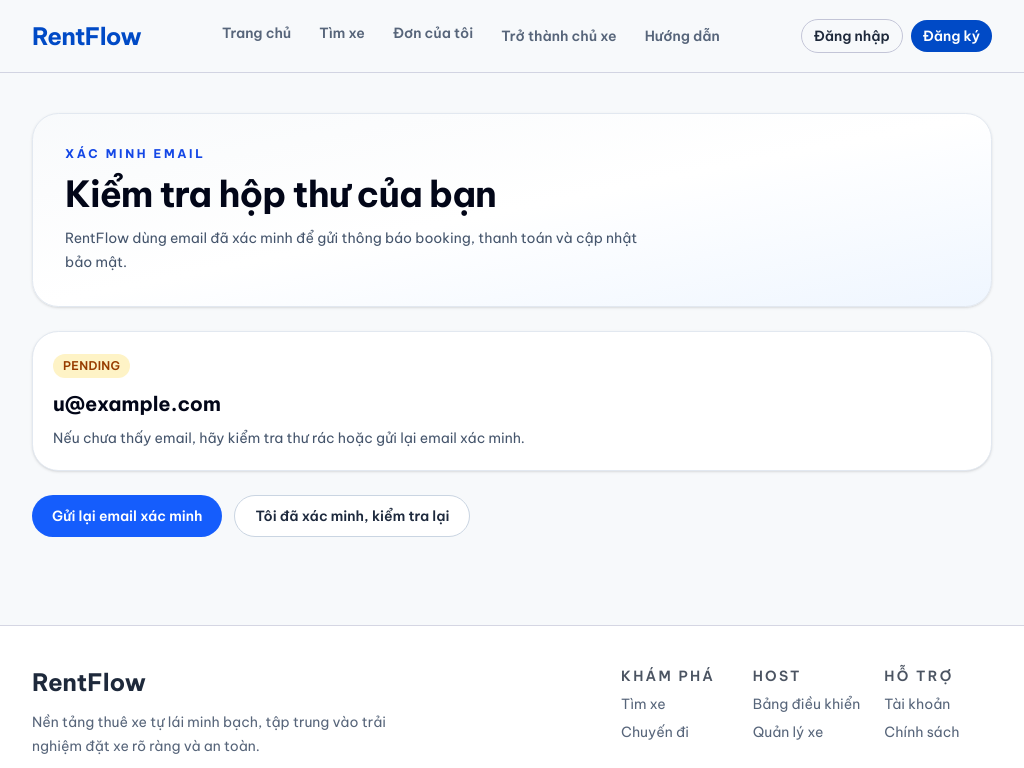
EmailOnboardingPageView › maps EMAIL_DELIVERY_FAILED resend failure to friendly copy
The image size is (1024, 768).
Expected: the heading "Kiểm tra hộp thư của bạn" is shown, x1=65 y1=171 x2=496 y2=217
Click the button "Gửi lại email xác minh".
click(127, 516)  # box x1=32 y1=495 x2=222 y2=537
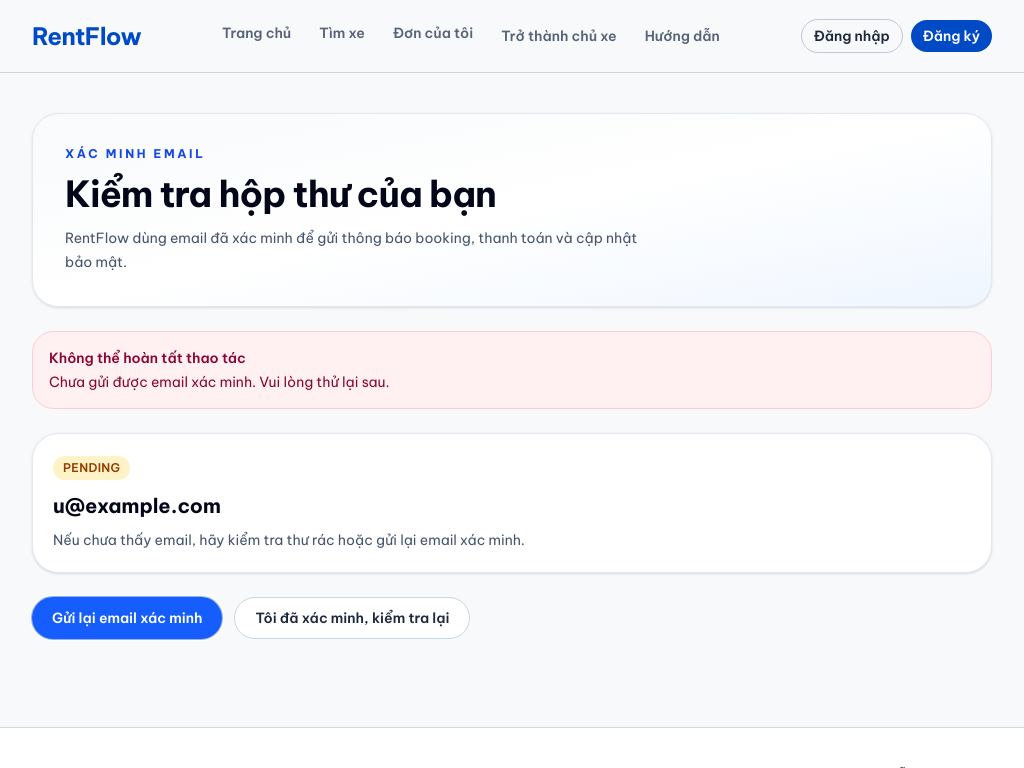
Now the text "Chưa gửi được email xác minh. Vui lòng thử lại sau." is shown, box x1=49 y1=373 x2=390 y2=391
